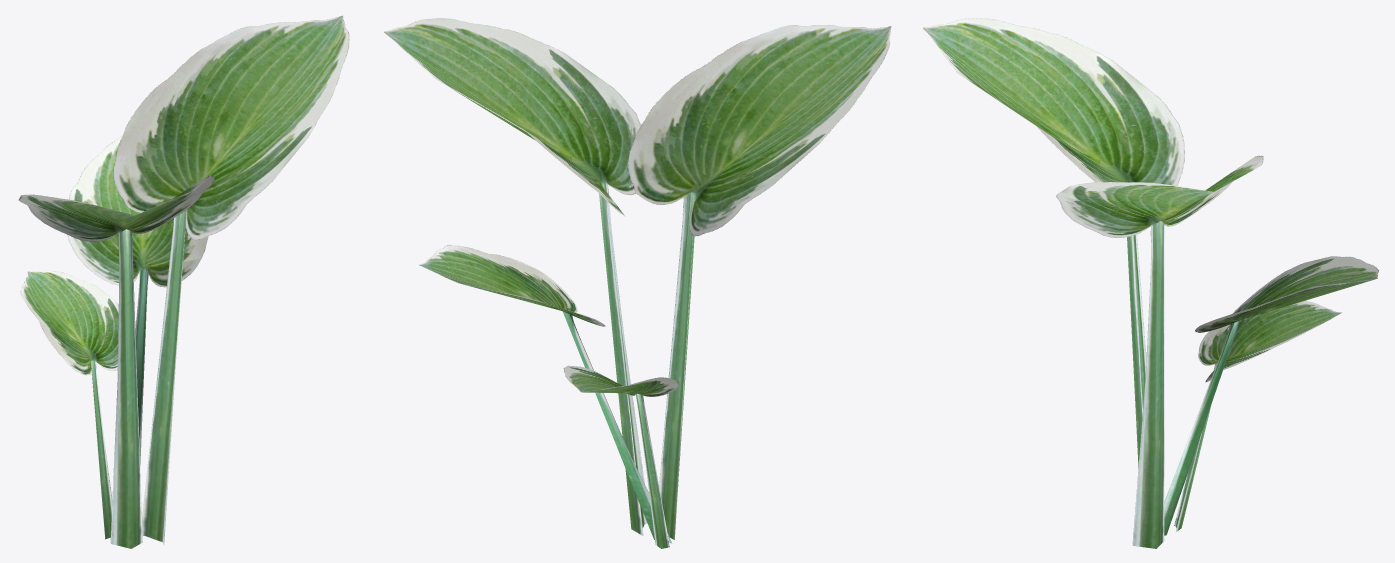
File: plant_small_wg_05R1.fbx
3 renders of one model, left to right at view 1: azimuth 30°, elevation 25°; view 2: azimuth 150°, elevation 25°; view 3: azimuth 270°, elevation 25°, orthographic. The views are drawn at different scales.
Visible parts, largest first — view 1: plant_small_wg_05R1; view 2: plant_small_wg_05R1; view 3: plant_small_wg_05R1.
Part boxes in pixels (x1,y1,x2,y2): plant_small_wg_05R1: [18, 15, 349, 548]; plant_small_wg_05R1: [384, 18, 891, 548]; plant_small_wg_05R1: [923, 18, 1378, 548].
Size of the model in its own units: 35.13 by 39.25 by 35.22.
